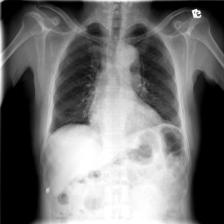normal: (41, 15, 191, 159)
